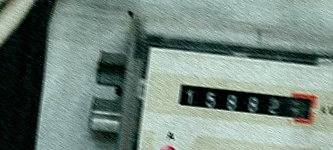1: (184, 86, 195, 103)
2: (267, 94, 279, 112)
5: (205, 88, 217, 105)
7: (289, 104, 299, 116)
8: (246, 93, 258, 111), (226, 92, 237, 109)
screen: (171, 73, 322, 128)
